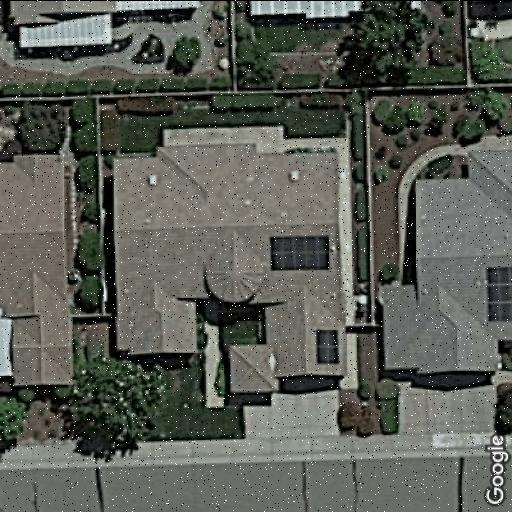solar-panel: (264, 229, 332, 274), (481, 263, 512, 322), (314, 320, 340, 368)
